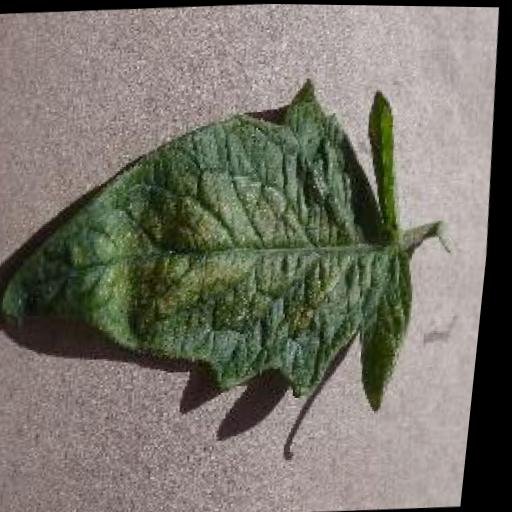Spider Mites: (0, 67, 441, 433)
